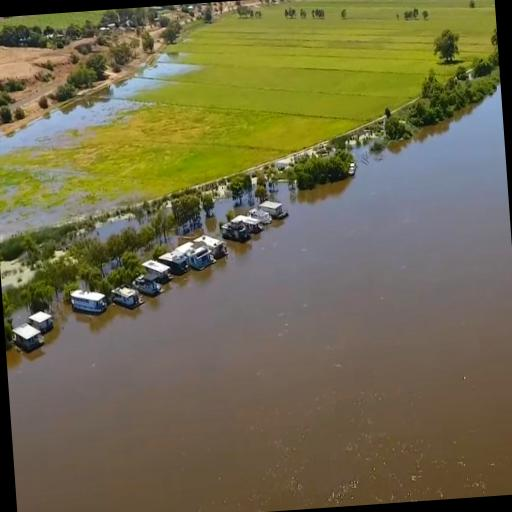flood: (6, 85, 512, 512), (0, 54, 197, 155), (0, 167, 98, 238), (170, 196, 258, 247), (92, 213, 139, 241), (4, 186, 18, 198), (277, 181, 289, 191)
house: (161, 238, 210, 278), (67, 285, 109, 320), (134, 262, 170, 298), (222, 212, 258, 246), (250, 198, 286, 228), (12, 320, 43, 354), (111, 284, 142, 311), (26, 309, 54, 337)
